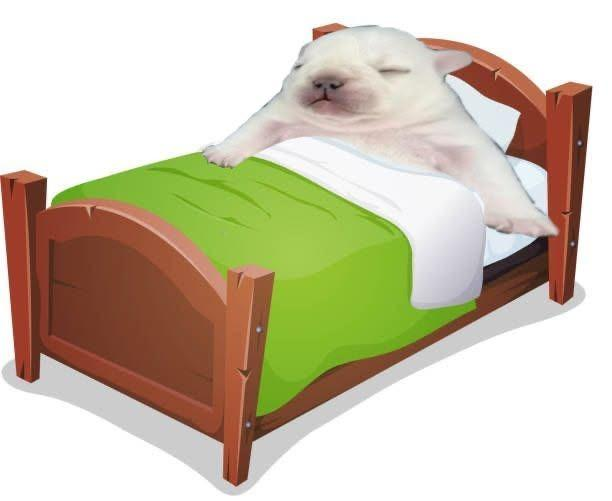puppy-dog: (204, 22, 561, 240)
